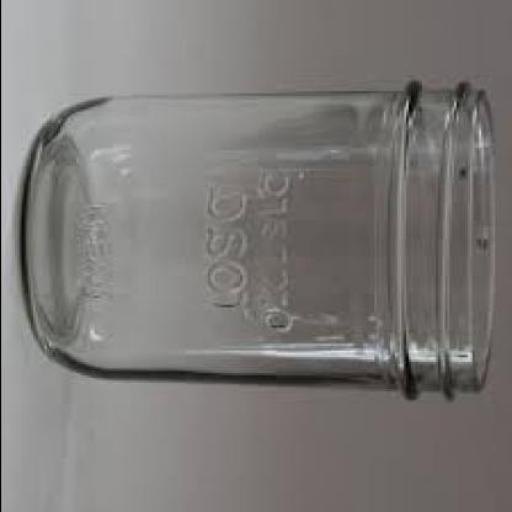glass: (23, 84, 498, 403)
